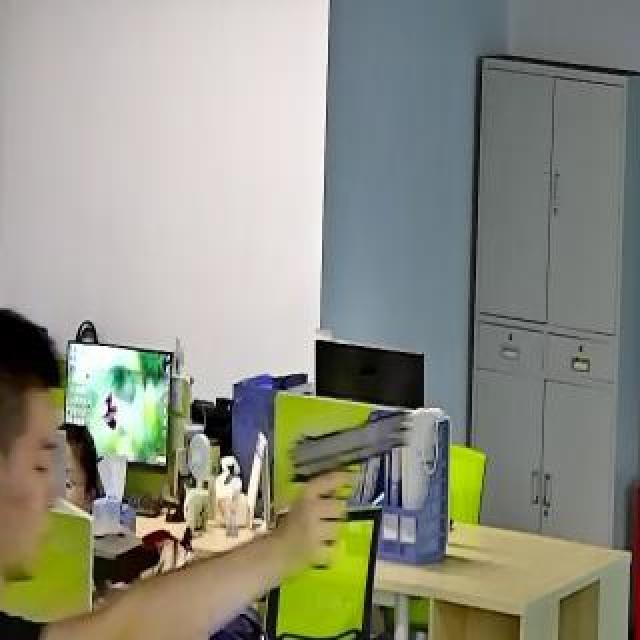Guns: (273, 394, 438, 536)
